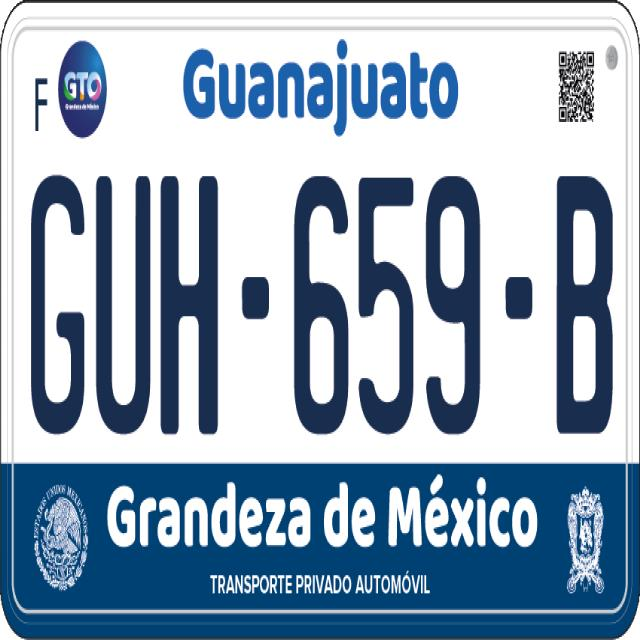placa: (15, 147, 623, 459)
